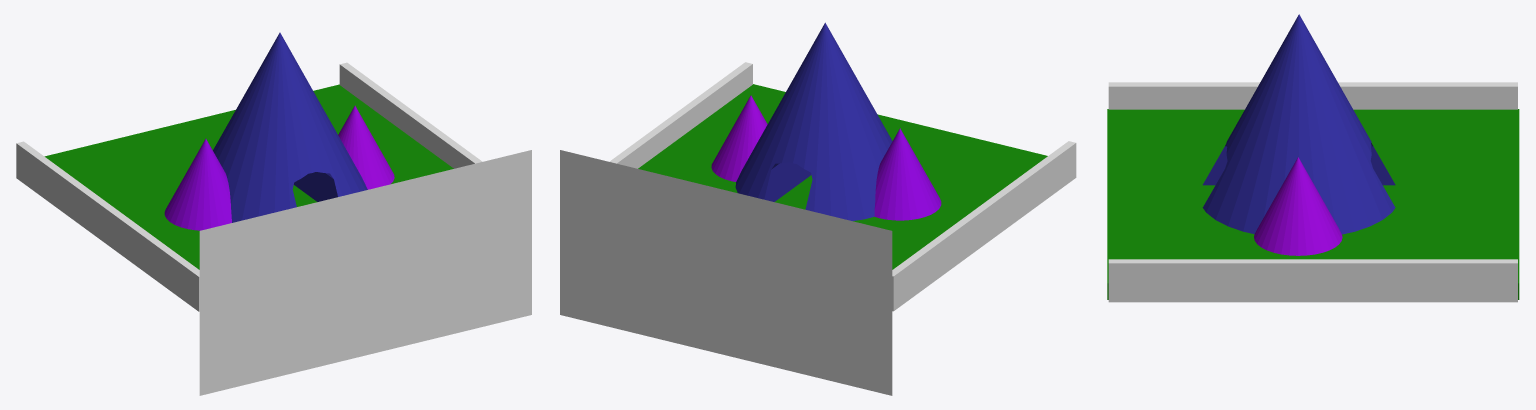
The model's file is toblerone.glb.
The picture shows the model from 3 angles, left to right: view 1: azimuth 30°, elevation 25°; view 2: azimuth 150°, elevation 25°; view 3: azimuth 270°, elevation 25°; orthographic projection. The views are drawn at different scales.
Parts seen in each view (by area): view 1: obj_snap.002, Cube, Cone.001, Cube.001, Cone, Cube.002, Cone.002; view 2: obj_snap.003, Cone.001, Cube, Cube.001, Cone, Cube.002, Cone.002; view 3: Cube, Cone.001, Cube.002, Cube.001, Cone.002.
Boxes of the visible parts, left/top/right/bottom form: obj_snap.002: left=199, top=150, right=531, bottom=395; Cube: left=44, top=84, right=453, bottom=269; Cone.001: left=213, top=32, right=367, bottom=222; Cube.001: left=16, top=141, right=199, bottom=311; Cone: left=164, top=138, right=231, bottom=230; Cube.002: left=339, top=62, right=482, bottom=168; Cone.002: left=338, top=105, right=394, bottom=189; obj_snap.003: left=560, top=150, right=892, bottom=395; Cone.001: left=735, top=22, right=892, bottom=221; Cube: left=638, top=84, right=1047, bottom=269; Cube.001: left=892, top=141, right=1076, bottom=311; Cone: left=874, top=128, right=941, bottom=220; Cube.002: left=609, top=62, right=752, bottom=168; Cone.002: left=711, top=95, right=767, bottom=181; Cube: left=1107, top=109, right=1519, bottom=299; Cone.001: left=1202, top=14, right=1395, bottom=234; Cube.002: left=1108, top=259, right=1517, bottom=302; Cube.001: left=1108, top=82, right=1517, bottom=109; Cone.002: left=1254, top=157, right=1342, bottom=255.
Bounding box in the file's own units: 4.21 × 3.15 × 4.08.
